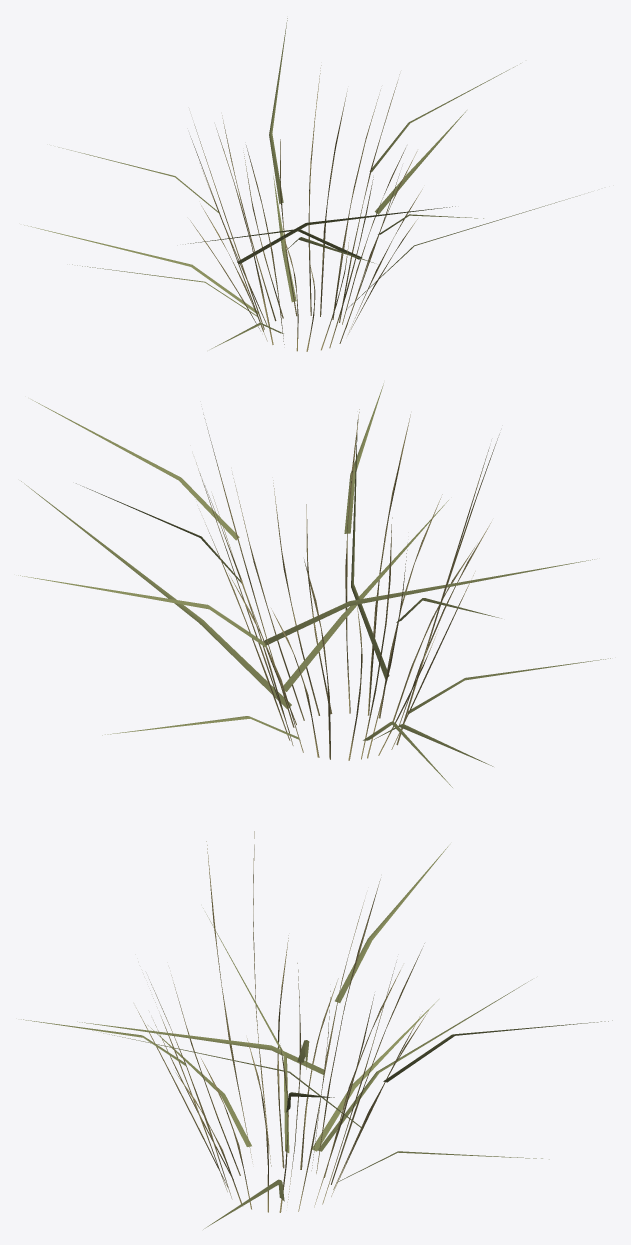
Rendered from Herbes_1_Niveau2.fbx.
The picture shows the model from 3 angles, top to bottom: view 1: azimuth 30°, elevation 25°; view 2: azimuth 150°, elevation 25°; view 3: azimuth 270°, elevation 25°; orthographic projection. The views are drawn at different scales.
Visible parts, largest first — view 1: Herbes_1_Niveau2; view 2: Herbes_1_Niveau2; view 3: Herbes_1_Niveau2.
Part boxes in pixels (box(x1,y1,x2,y2)): Herbes_1_Niveau2: box(24, 18, 588, 351); Herbes_1_Niveau2: box(18, 383, 610, 787); Herbes_1_Niveau2: box(21, 831, 612, 1229).
Bounding box in the file's own units: 83.61 × 41.92 × 74.12.
